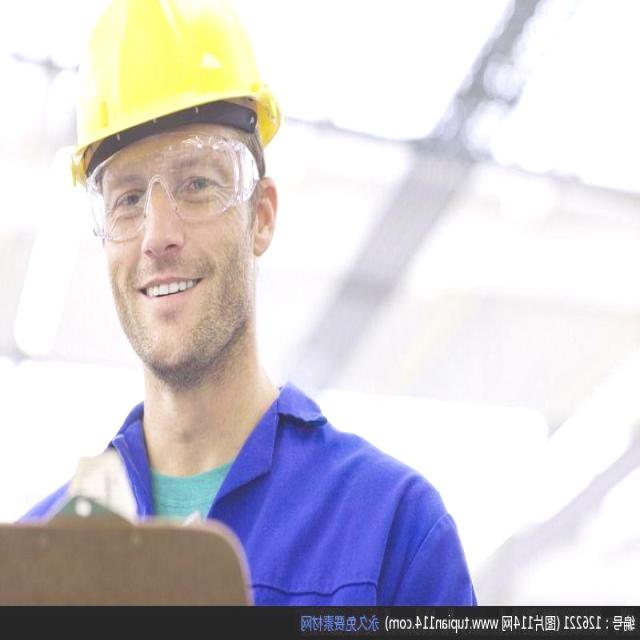face_nomask: (95, 133, 244, 386)
glasses: (89, 128, 246, 251)
head_helmet: (62, 1, 276, 160)
person: (2, 1, 493, 605)
